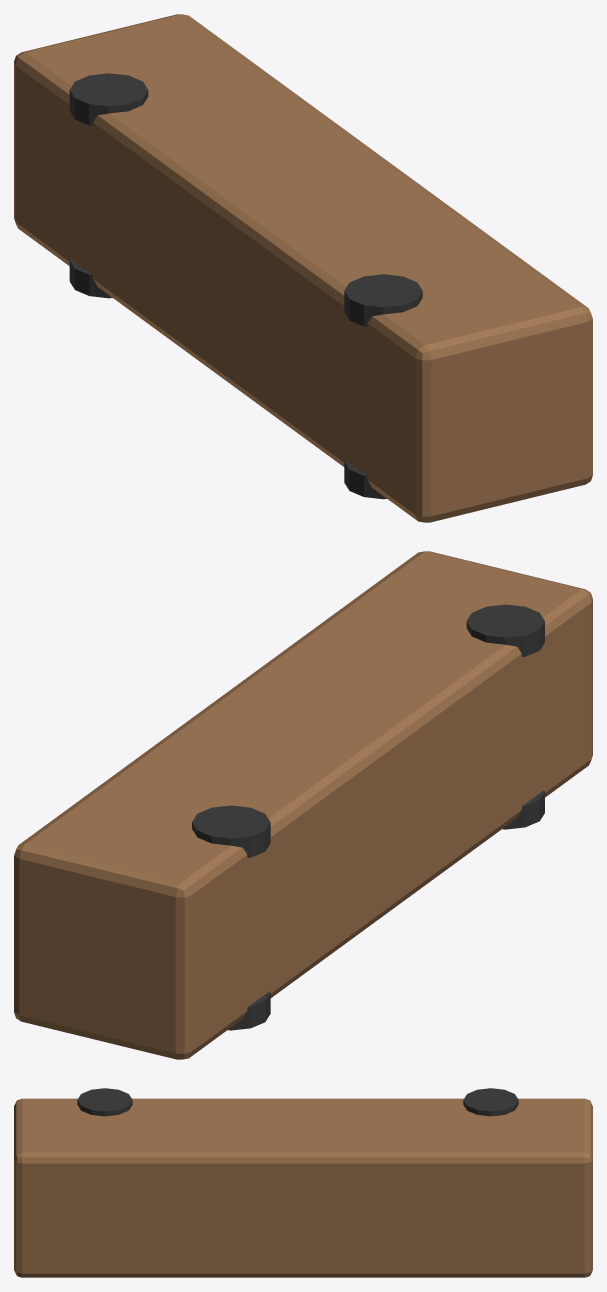
The model's file is onibus_r1.glb.
3 renders of one model, top to bottom at view 1: azimuth 30°, elevation 25°; view 2: azimuth 150°, elevation 25°; view 3: azimuth 270°, elevation 25°, orthographic. The views are drawn at different scales.
Visible parts, largest first — view 1: onibus_r1; view 2: onibus_r1; view 3: onibus_r1.
Part boxes in pixels (x1,y1,x2,y2): onibus_r1: (14,14,592,522); onibus_r1: (14,551,592,1059); onibus_r1: (14,1088,592,1277).
Size of what is drawn, in the model's own units: 2.7 by 2.7 by 10.5.
